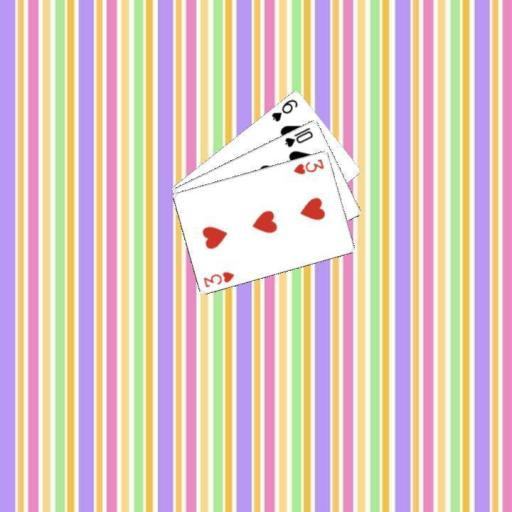card-corner: (269, 96, 299, 123), (282, 124, 314, 148), (201, 268, 236, 289), (290, 156, 326, 176)
